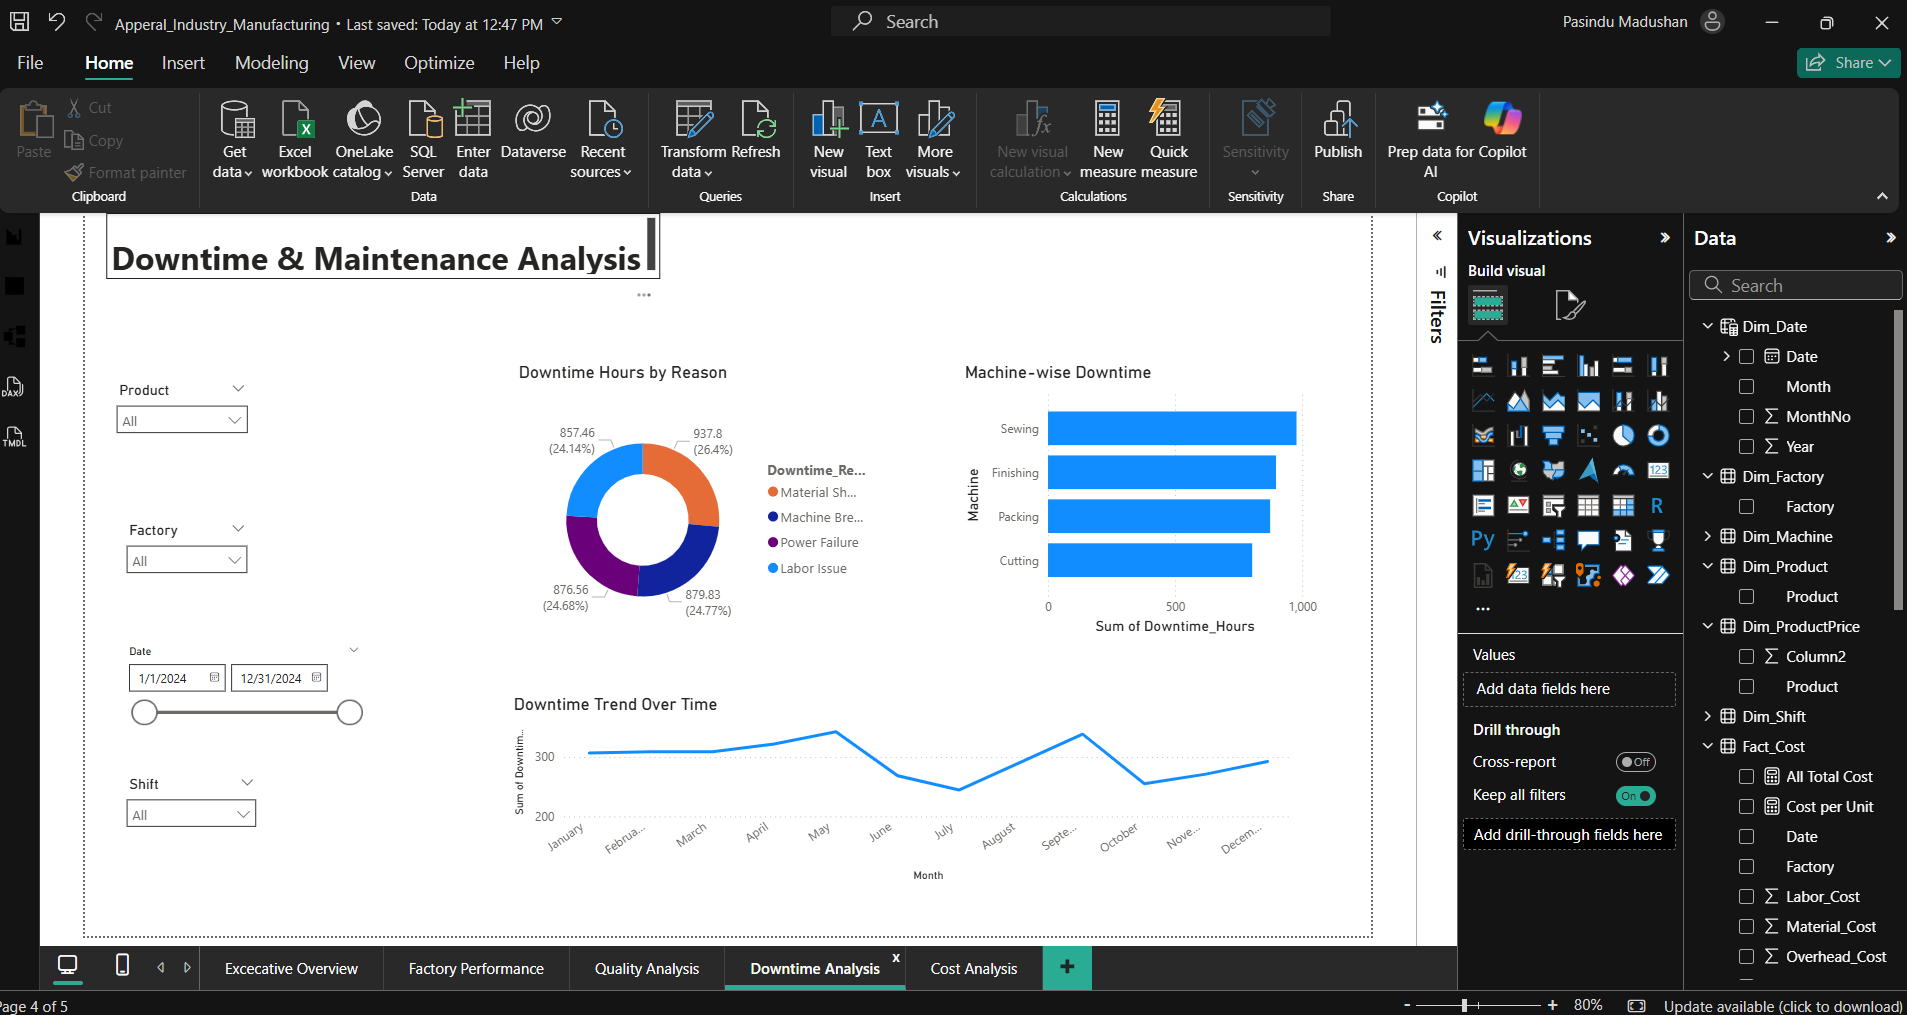

This screenshot's page, from the dashboard's own definition file:
{"tool":"powerbi","page":{"name":"Downtime Analysis","canvas":[1280,720],"ordinal":3},"visuals":[{"type":"slicer","fields":{"Values":["Fact_Production.Date"]},"box":[31.1,424.2,253.8,92.1],"z":0},{"type":"slicer","fields":{"Values":["Dim_Product.Product"]},"box":[21.1,163,150.5,92.1],"z":1000},{"type":"slicer","fields":{"Values":["Dim_Factory.Factory"]},"box":[31.1,302.3,140.6,92.1],"z":2000},{"type":"slicer","fields":{"Values":["Dim_Shift.Shift"]},"box":[31.1,554.8,149.3,93.3],"z":3000},{"type":"donutChart","title":"Downtime Hours by Reason","fields":{"Category":["Fact_Downtime.Downtime_Reason"],"Y":["Sum(Fact_Downtime.Downtime_Hours)"]},"box":[426.7,148,363.2,296.1],"z":4000},{"type":"barChart","title":"Machine-wise Downtime","fields":{"Y":["Sum(Fact_Downtime.Downtime_Hours)"],"Category":["Fact_Downtime.Machine"]},"box":[870.8,148,360.7,276.2],"z":5000},{"type":"textbox","box":[21.1,0,551.1,65.9],"z":6000},{"type":"lineChart","title":"Downtime Trend Over Time","fields":{"Category":["Dim_Date.Date.Variation.Date Hierarchy.Month"],"Y":["Sum(Fact_Downtime.Downtime_Hours)"]},"box":[421.7,478.9,784.9,191.6],"z":7000}]}

Visuals, with their boxes on the page's 1280x720 design canvas (x1, y1, x2, y2). These are canvas units, not pixel positions in the 1907x1015 screenshot, which may show the page scaled, cropped or inside an application window:
slicer - Fact_Production.Date: pyautogui.locateOnScreen(31, 424, 285, 516)
slicer - Dim_Product.Product: pyautogui.locateOnScreen(21, 163, 172, 255)
slicer - Dim_Factory.Factory: pyautogui.locateOnScreen(31, 302, 172, 394)
slicer - Dim_Shift.Shift: pyautogui.locateOnScreen(31, 555, 180, 648)
"Downtime Hours by Reason" donutChart: pyautogui.locateOnScreen(427, 148, 790, 444)
"Machine-wise Downtime" barChart: pyautogui.locateOnScreen(871, 148, 1232, 424)
textbox: pyautogui.locateOnScreen(21, 0, 572, 66)
"Downtime Trend Over Time" lineChart: pyautogui.locateOnScreen(422, 479, 1207, 670)
